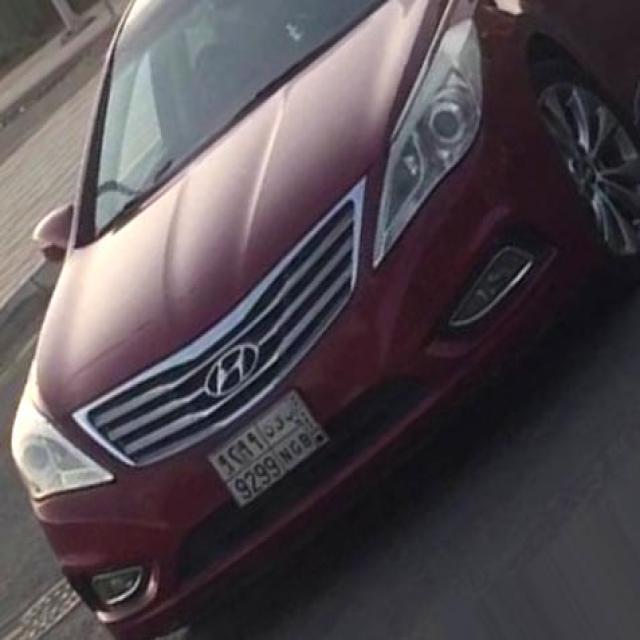Car-plate: (194, 372, 341, 521)
